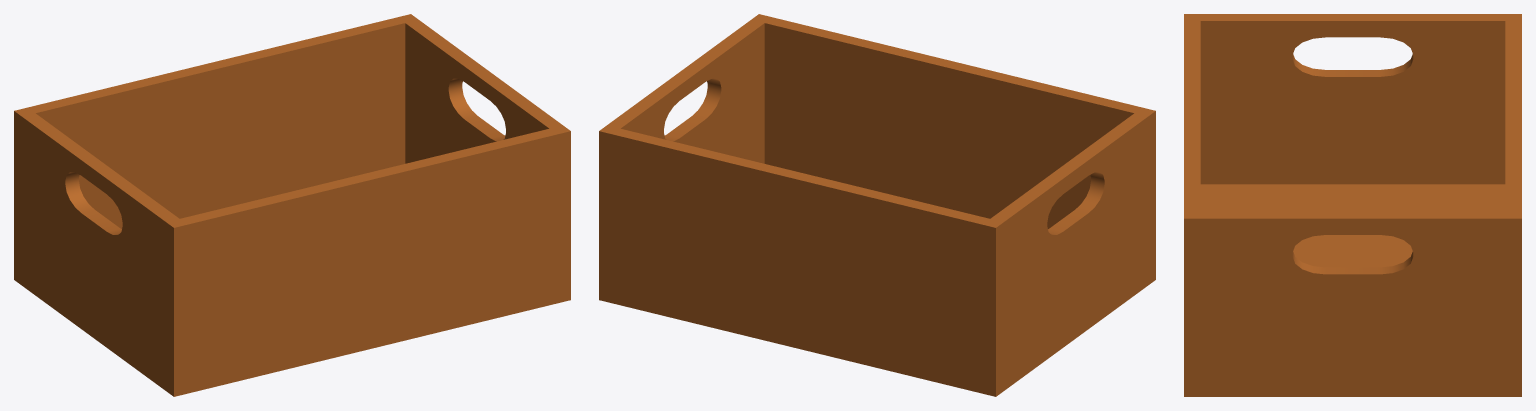
File: Open Box.fbx
3 views of the same model, side by side, from view 1: azimuth 30°, elevation 25°; view 2: azimuth 150°, elevation 25°; view 3: azimuth 270°, elevation 25° (orthographic). The views are drawn at different scales.
Visible parts, largest first — view 1: Open Box; view 2: Open Box; view 3: Open Box.
Part boxes in pixels (x1,y1,x2,y2): Open Box: [14, 14, 570, 396]; Open Box: [599, 14, 1155, 396]; Open Box: [1184, 14, 1521, 396].
Size of the model in its own units: 3.24 by 2.26 by 1.32.
